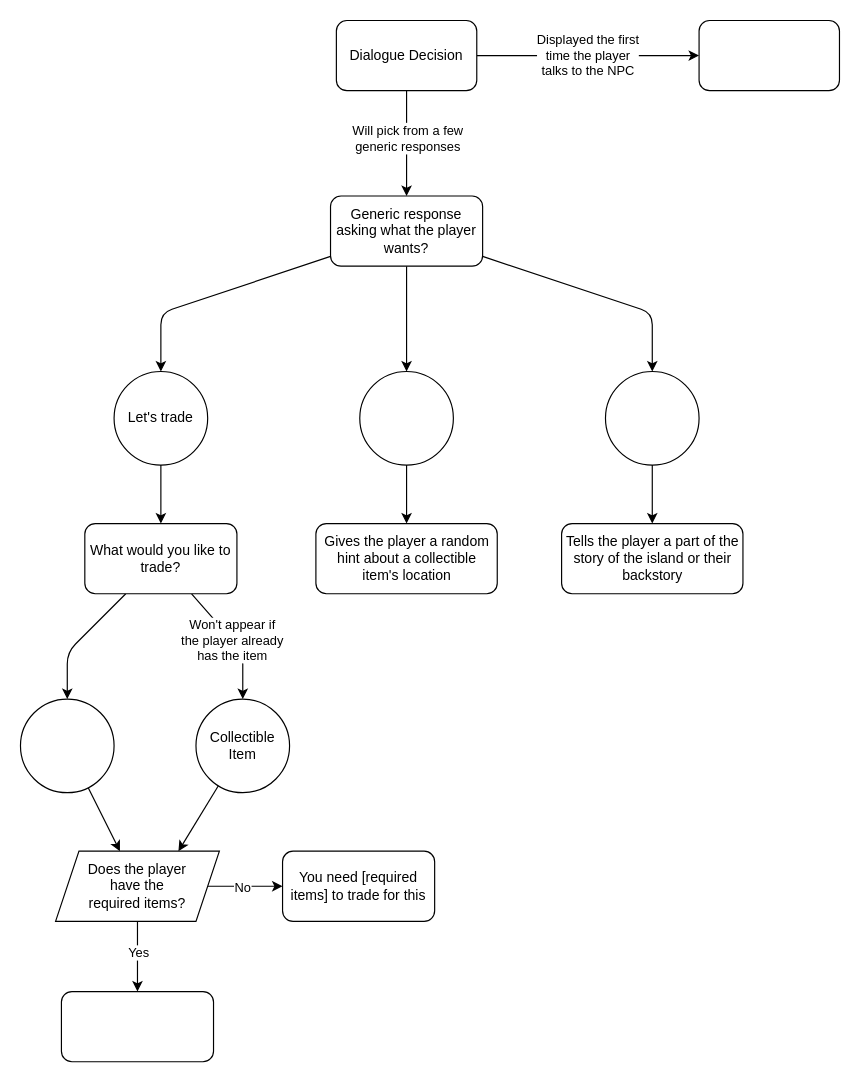
Image size: 860x1082. Some labels were removed from this diagram. The box of each missing label's shape, as (x1, y1, x2, y2) in pixels:
I just want to chat: (604, 370, 699, 465)
I need a hint: (359, 370, 453, 465)
Item: (19, 698, 114, 793)
NPC Introduction: (698, 19, 839, 91)
Trade completed: (60, 990, 214, 1062)
